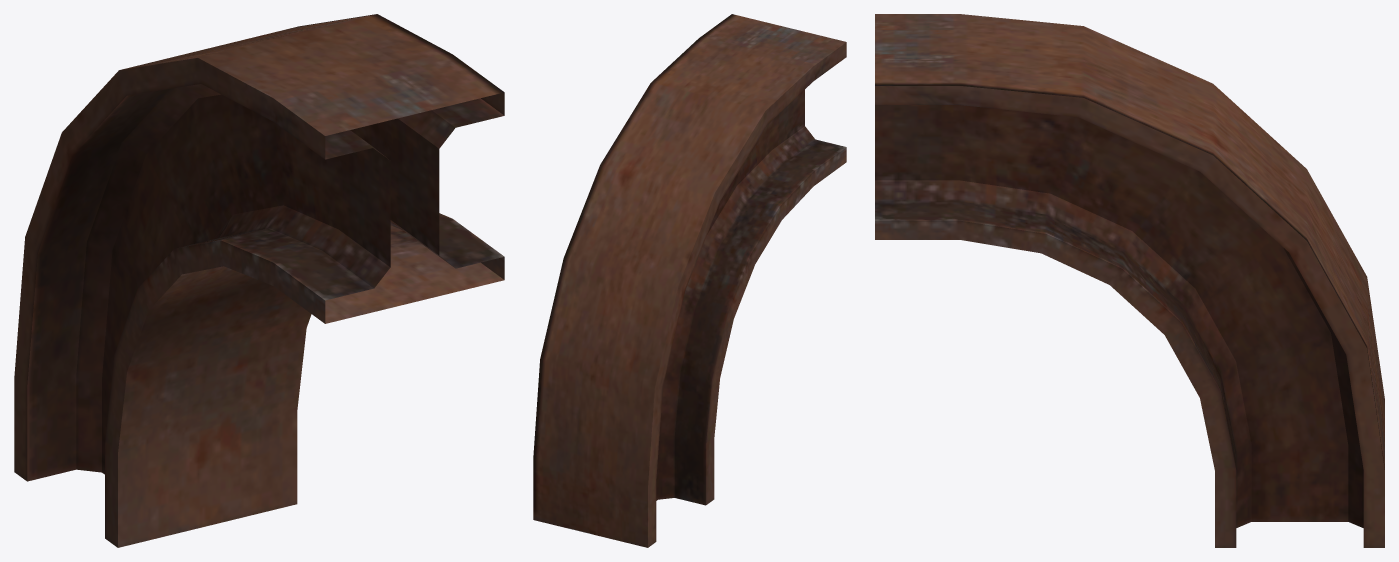
The model's file is girder_rusty_turn_short.dae.
3 renders of one model, left to right at view 1: azimuth 30°, elevation 25°; view 2: azimuth 150°, elevation 25°; view 3: azimuth 270°, elevation 25°, orthographic. The views are drawn at different scales.
Parts seen in each view (by area): view 1: girder_rusty_turn_short; view 2: girder_rusty_turn_short; view 3: girder_rusty_turn_short.
Boxes of the visible parts, x1=… form: girder_rusty_turn_short: x1=14, y1=14, x2=504, y2=547; girder_rusty_turn_short: x1=533, y1=14, x2=846, y2=547; girder_rusty_turn_short: x1=875, y1=14, x2=1384, y2=547.
Size of the model in its own units: 0.25 by 0.75 by 0.75.
